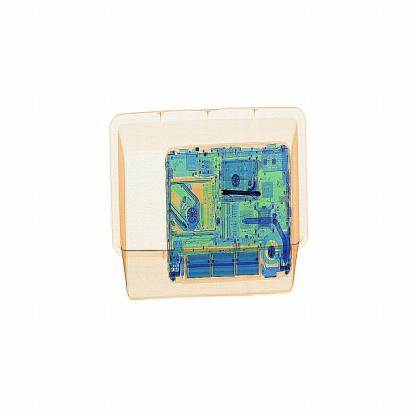knife: (216, 180, 264, 209)
